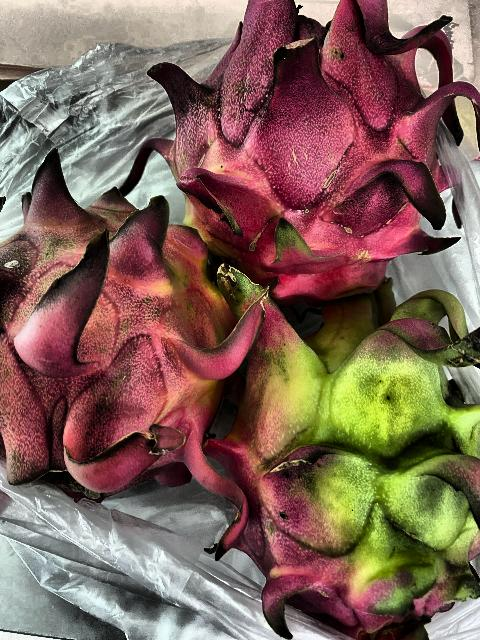buah-naga-belum-matang: (208, 268, 480, 640)
buah-naga-matang: (0, 142, 264, 550), (141, 1, 475, 298)
